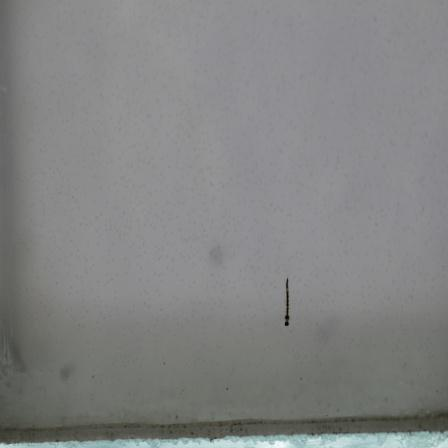Jentik-Nyamuk: (282, 273, 297, 334)
